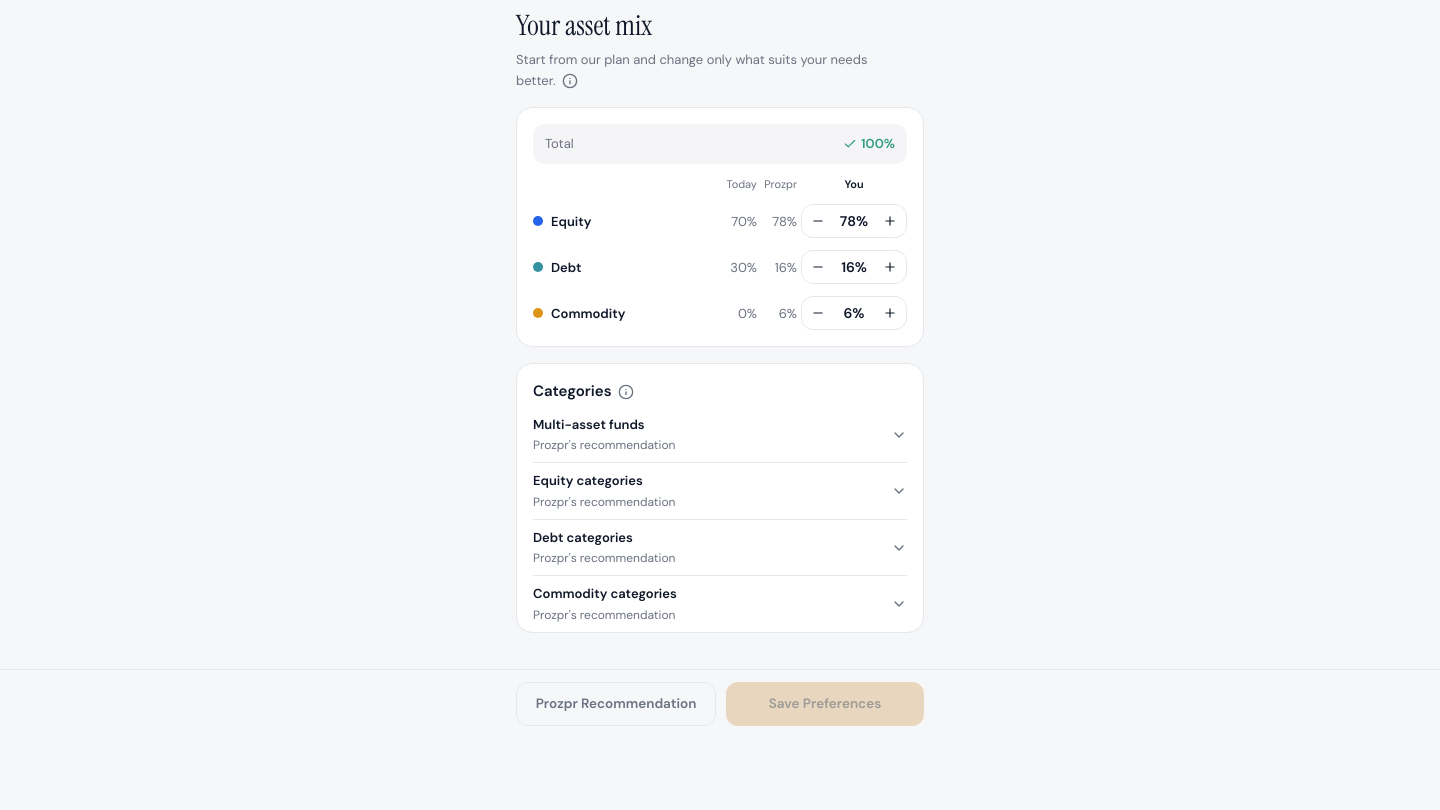
Test: InvestPreferences — where you are today › names what was excluded and that the rest was rescaled, behind the ⓘ
Click the button named "How your preference works": click(570, 81) x1=560 y1=71 x2=580 y2=91
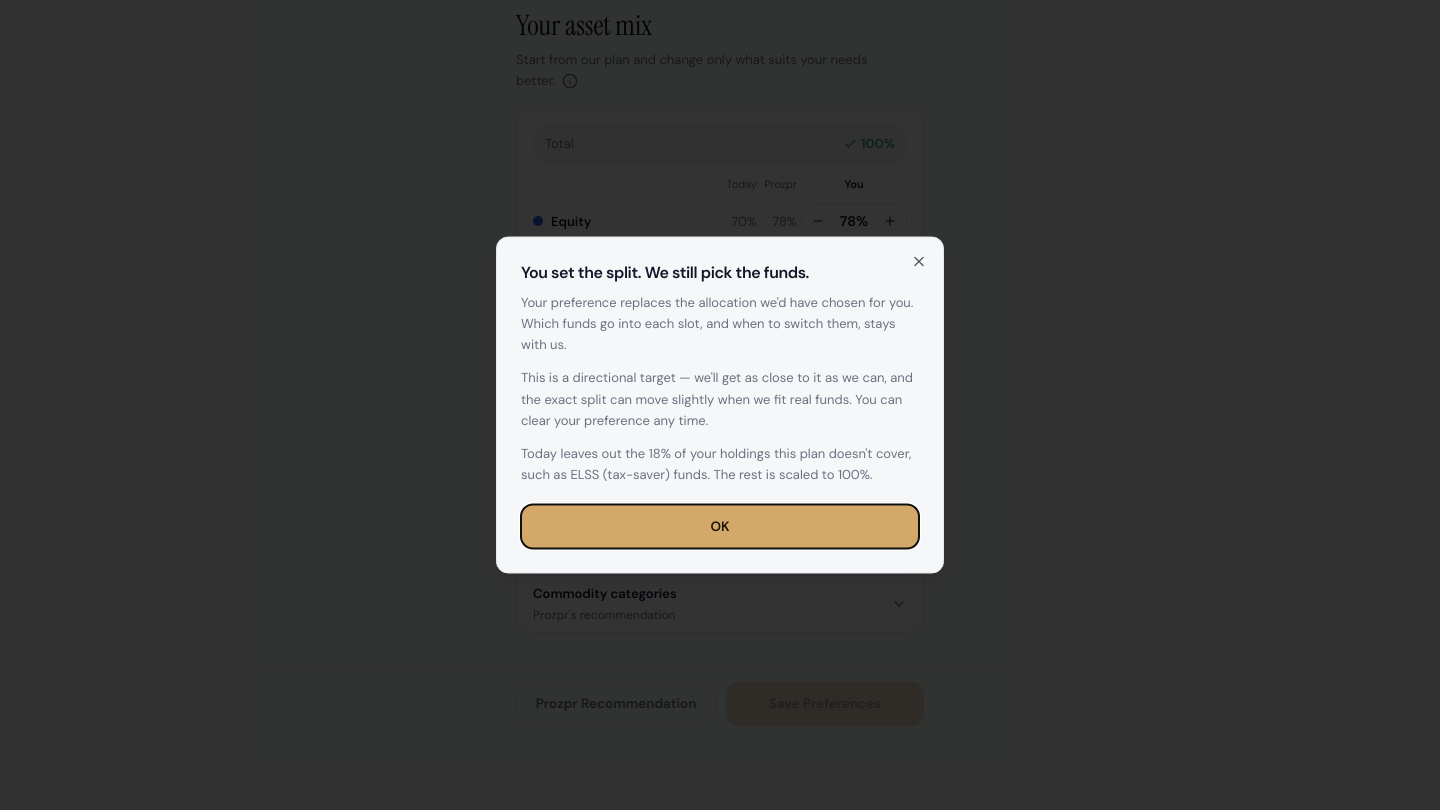
Expected: the dialog shows "Today leaves out the 18% of your holdings this plan doesn't cover, such as ELSS (tax-saver) funds. The rest is scaled to 100%.", x1=521 y1=444 x2=911 y2=482
